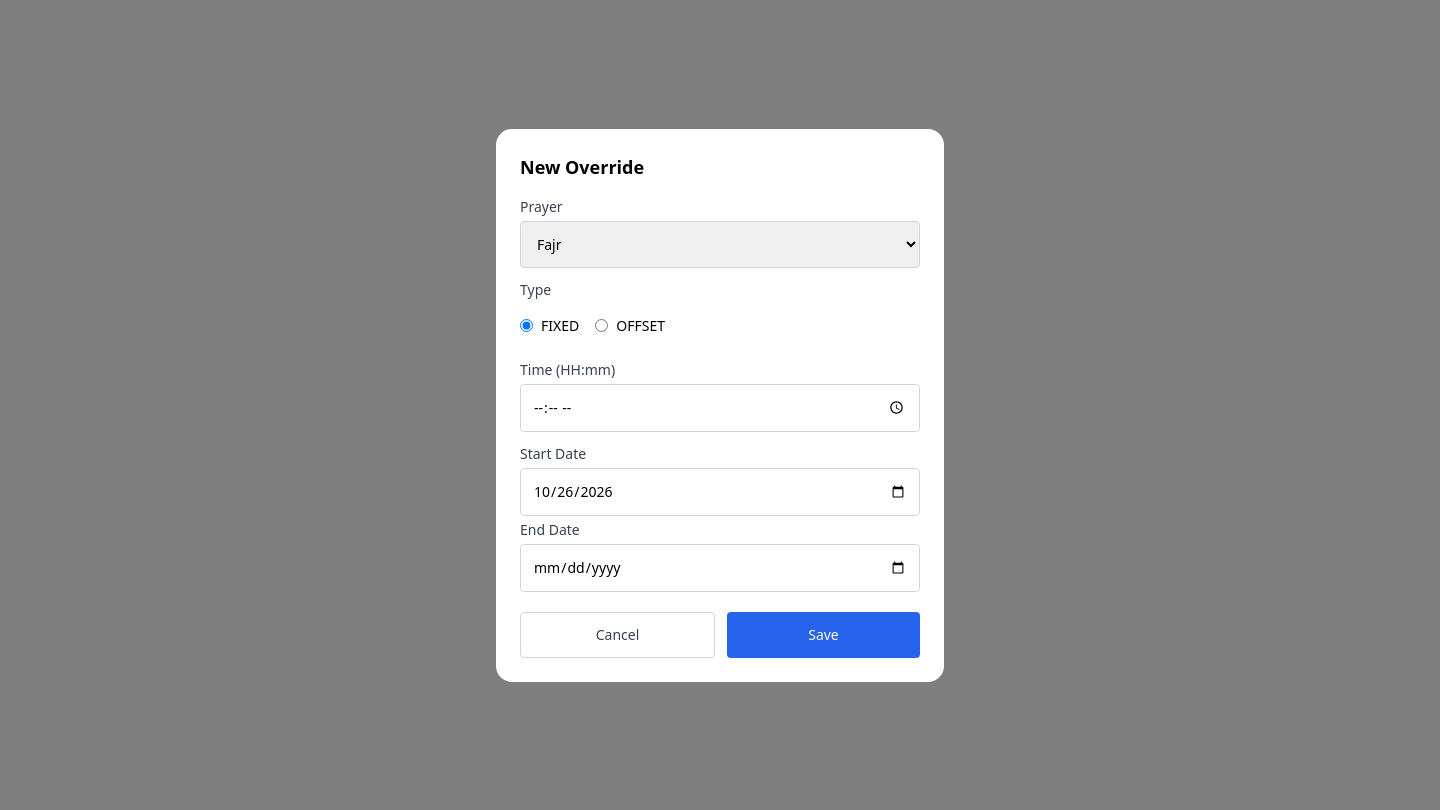
Test case: OverrideFormModal — invalid inputs prevent submission › shows error when endDate is before startDate
Type "05:45" into the time field.
click(720, 408); type("05:45")  # box x1=520 y1=384 x2=920 y2=432
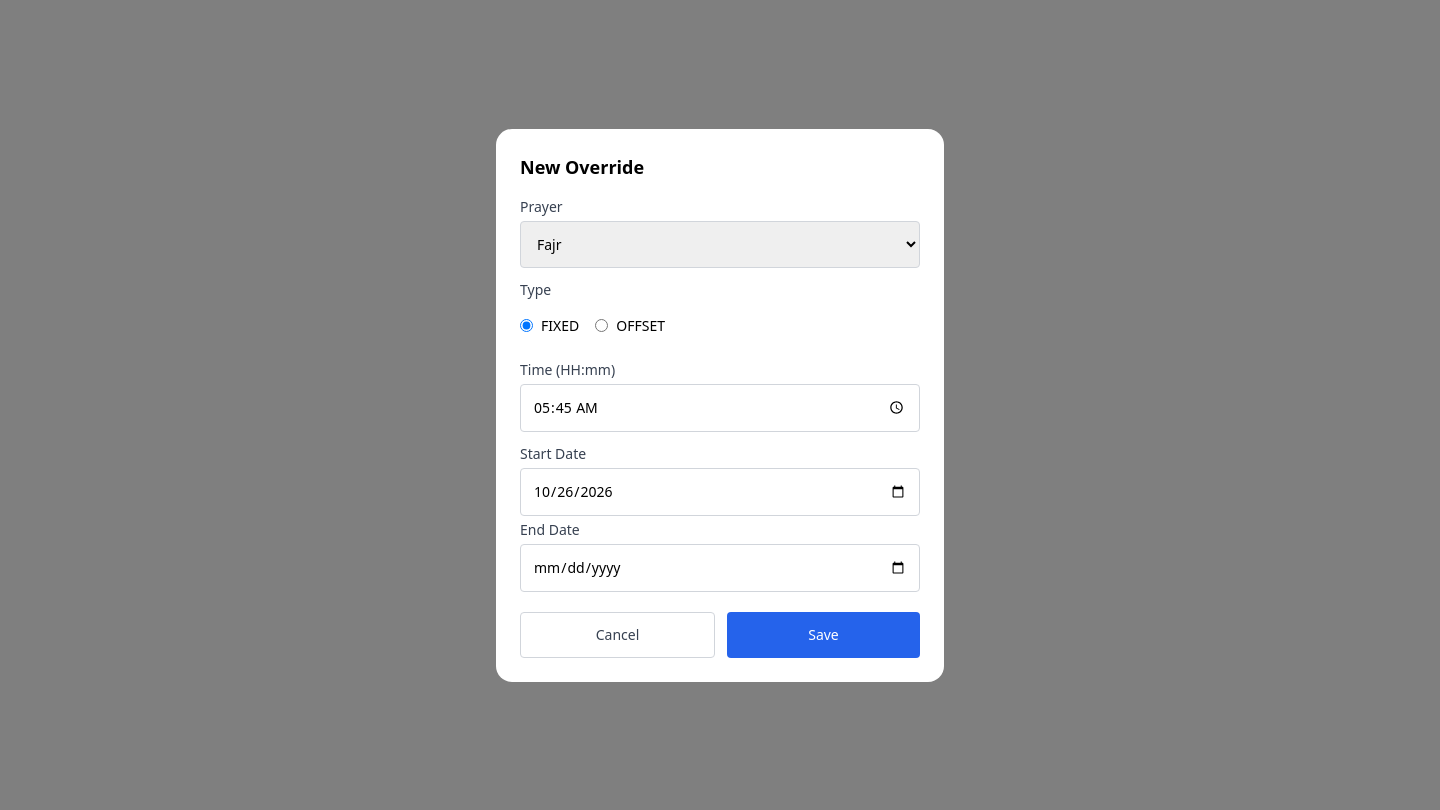
Type "2025-01-20" into the 1st date field.
click(720, 492); type("2025-01-20")  # box x1=520 y1=468 x2=920 y2=516
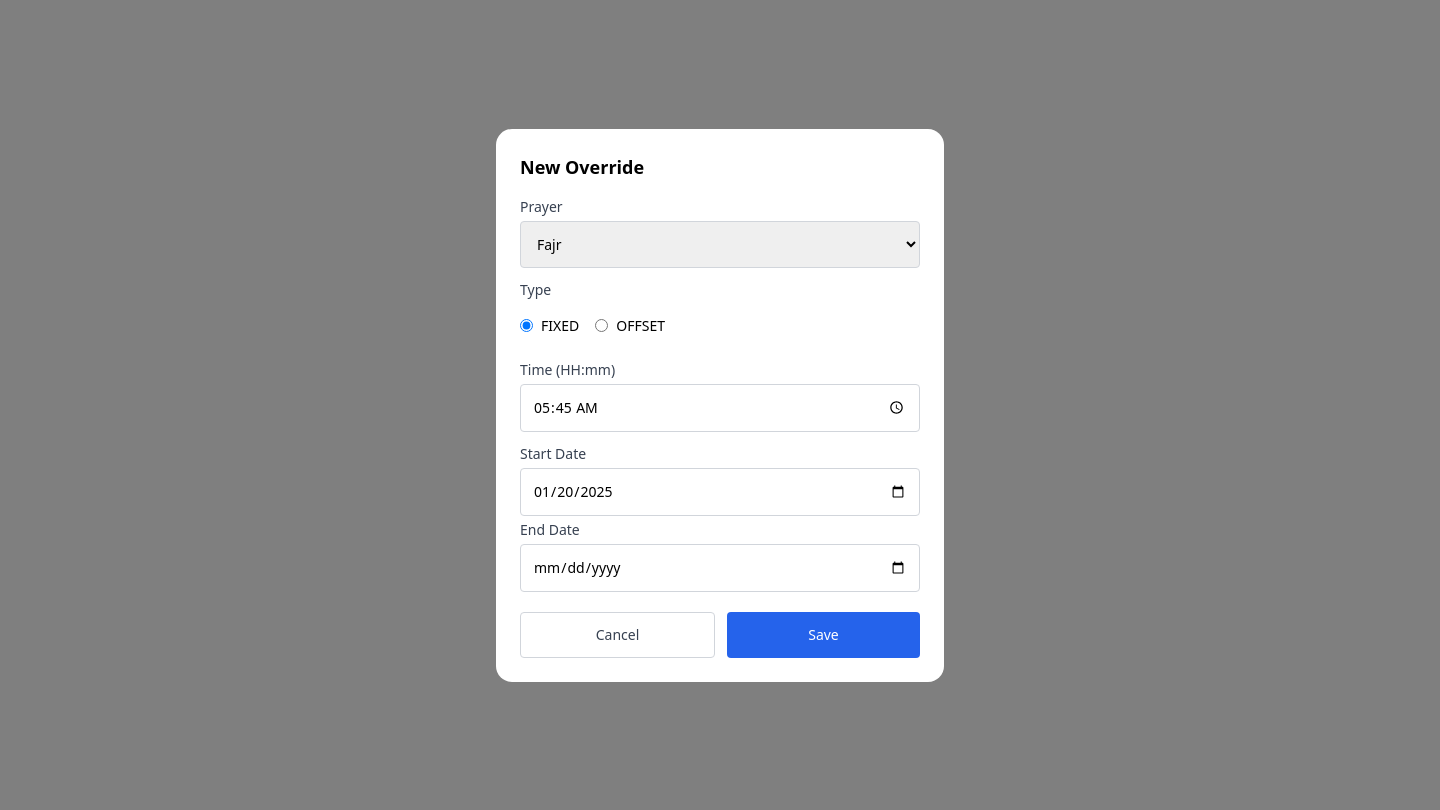
Type "2025-01-10" into the 2nd date field.
click(720, 568); type("2025-01-10")  # box x1=520 y1=544 x2=920 y2=592
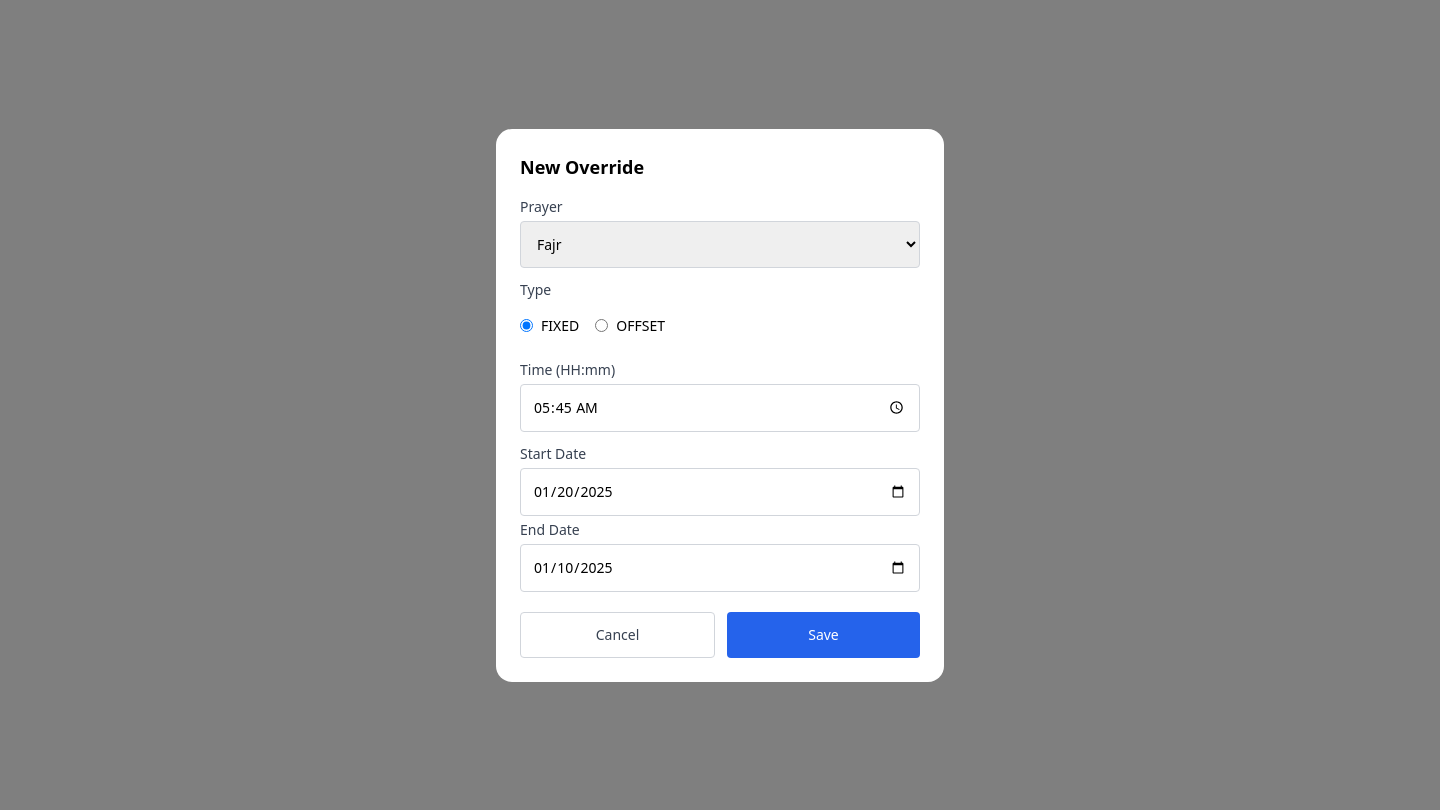
Click the button "Save".
click(824, 634)  # box x1=727 y1=612 x2=920 y2=658
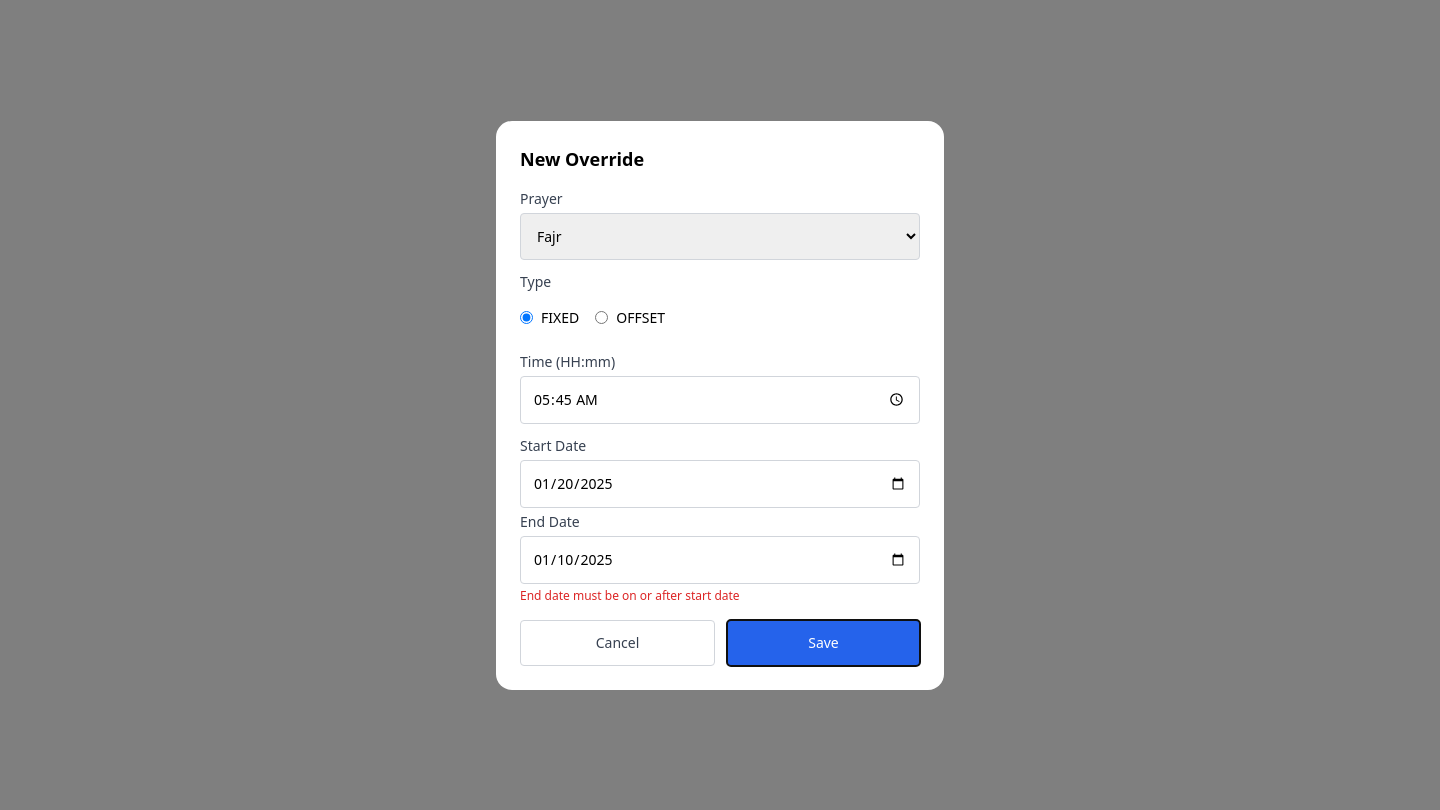
Check: the text "End date must be on or after start date" is shown, box x1=520 y1=586 x2=740 y2=604
